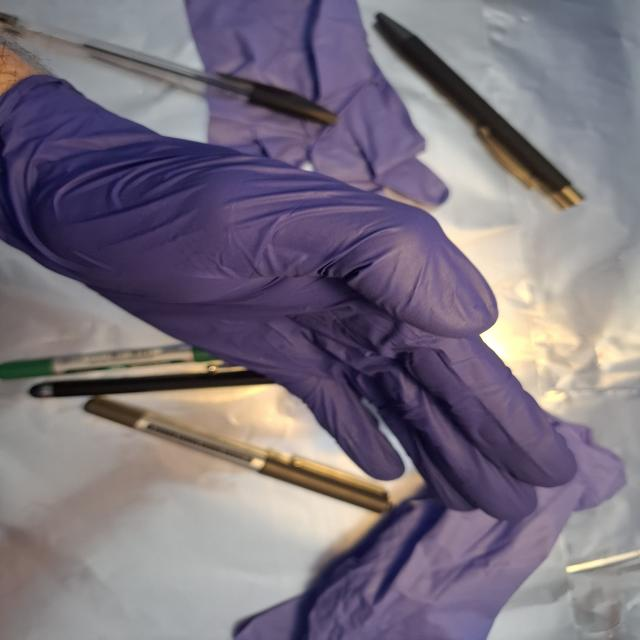glove_on: (0, 68, 583, 526)
